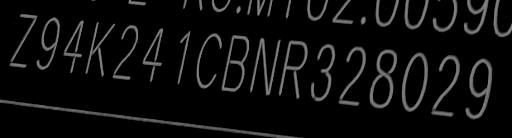letter: (428, 50, 464, 119), (276, 37, 310, 101), (83, 19, 117, 81), (248, 35, 282, 97), (398, 50, 432, 112), (463, 55, 495, 120), (218, 33, 252, 94), (336, 43, 368, 106), (6, 10, 38, 71), (368, 45, 398, 110), (110, 23, 140, 85), (194, 32, 224, 91), (308, 42, 336, 104), (33, 13, 61, 71), (60, 17, 86, 76), (140, 25, 164, 85), (174, 28, 192, 85)
